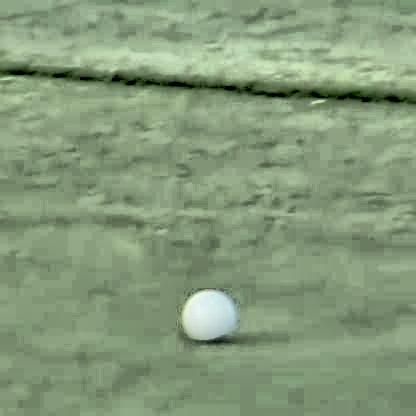golfball: (179, 286, 235, 342)
